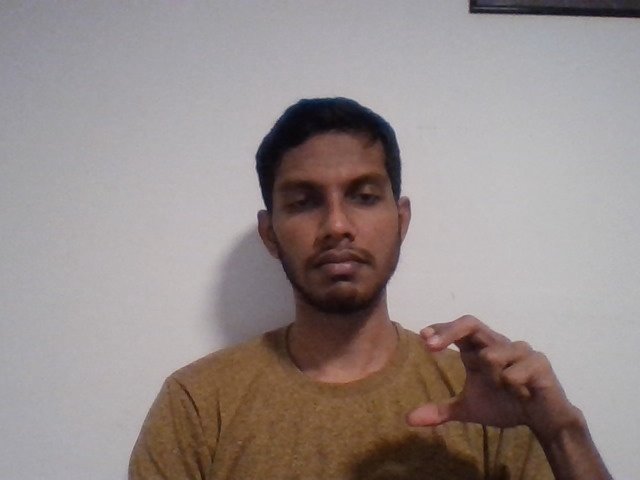no: (397, 303, 588, 470)
